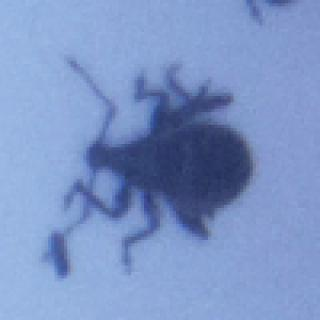bvw: (38, 50, 256, 274)
